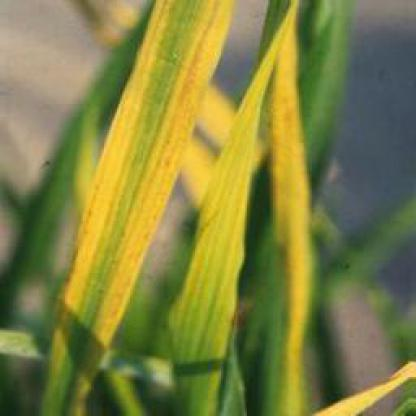Tungro: (35, 3, 232, 382), (191, 10, 295, 411), (261, 3, 316, 401), (305, 359, 416, 416)
